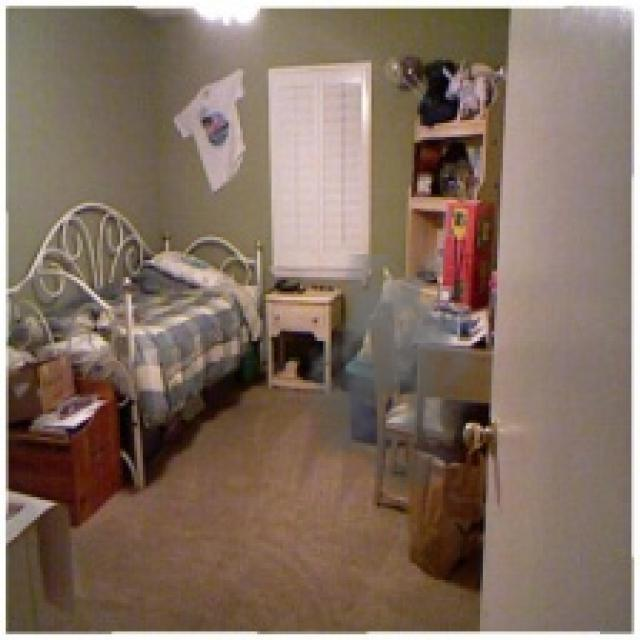Smoke: (297, 255, 500, 494)
